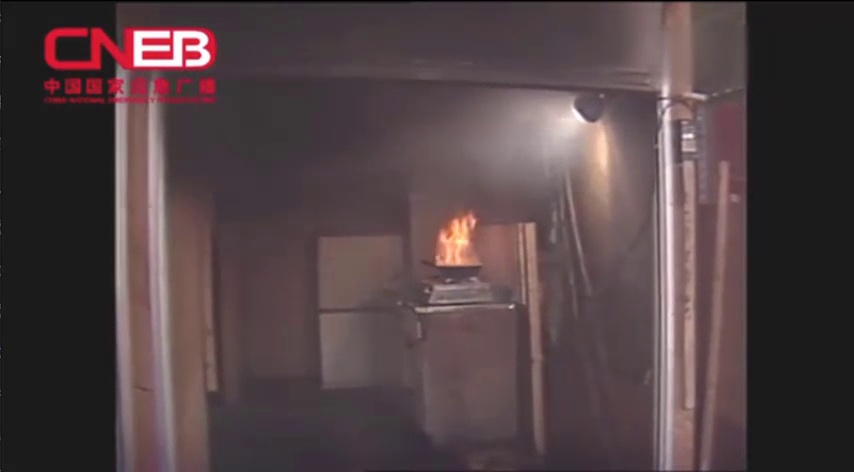fire: (421, 205, 487, 279)
